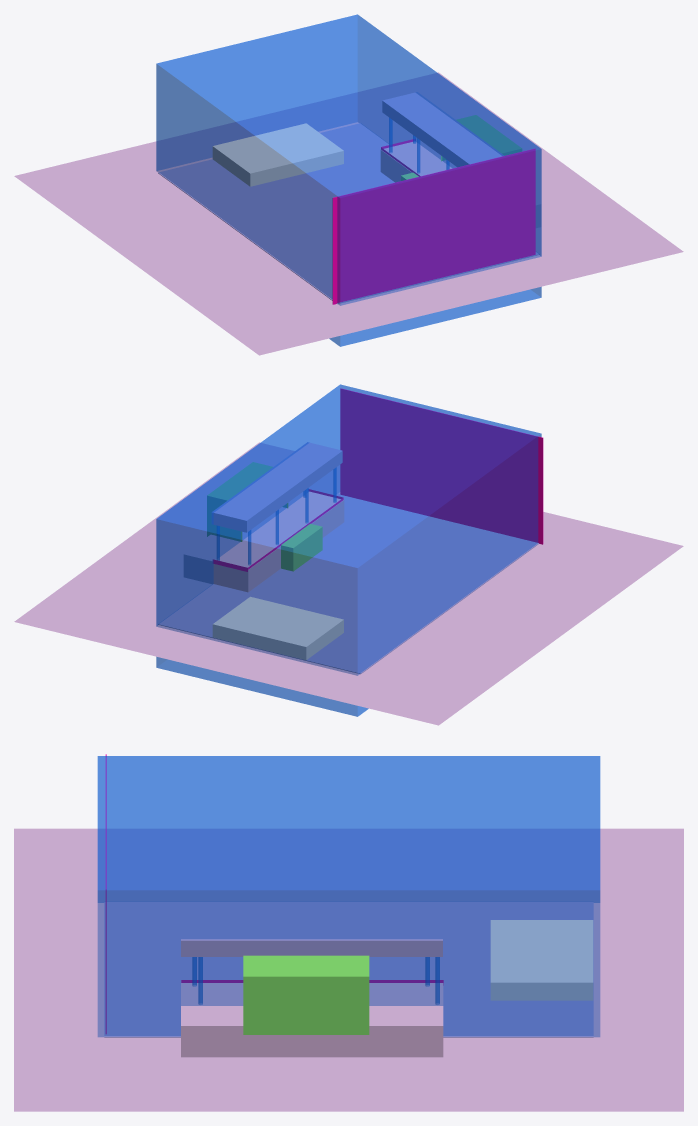
The model's file is Warehouse-18aug.glb.
3 renders of one model, top to bottom at view 1: azimuth 30°, elevation 25°; view 2: azimuth 150°, elevation 25°; view 3: azimuth 270°, elevation 25°, orthographic. The views are drawn at different scales.
Visible parts, largest first — view 1: Cube, Plane, Cube.7, Cube.1, Cube.2, Cube.4, Cube.3, Cube.8; view 2: Cube, Plane, Cube.1, Cube.7, Cube.3, Cube.2, Cube.4, Cube.8, Cube.6; view 3: Cube, Plane, Cube.1, Cube.3, Cube.4, Cube.8, Cube.2, Cube.7.
Part boxes in pixels (<box>): Cube: <box>156,14,541,346</box>; Plane: <box>14,72,683,355</box>; Cube.7: <box>332,148,535,304</box>; Cube.1: <box>158,123,539,304</box>; Cube.2: <box>212,123,343,186</box>; Cube.4: <box>382,92,503,167</box>; Cube.3: <box>380,141,540,227</box>; Cube.8: <box>441,115,521,161</box>; Cube: <box>156,384,541,716</box>; Plane: <box>14,442,683,725</box>; Cube.1: <box>158,493,539,674</box>; Cube.7: <box>340,388,543,544</box>; Cube.3: <box>184,491,344,592</box>; Cube.2: <box>212,597,343,659</box>; Cube.4: <box>212,442,342,532</box>; Cube.8: <box>207,462,288,541</box>; Cube.6: <box>281,524,322,571</box>; Cube: <box>97,756,600,1036</box>; Plane: <box>14,828,683,1111</box>; Cube.1: <box>104,902,593,1037</box>; Cube.3: <box>181,983,443,1057</box>; Cube.4: <box>181,917,442,956</box>; Cube.8: <box>243,955,369,1034</box>; Cube.2: <box>490,920,593,1000</box>; Cube.7: <box>105,754,106,1033</box>.
Bounding box in the file's own units: 400 × 134 × 400.
